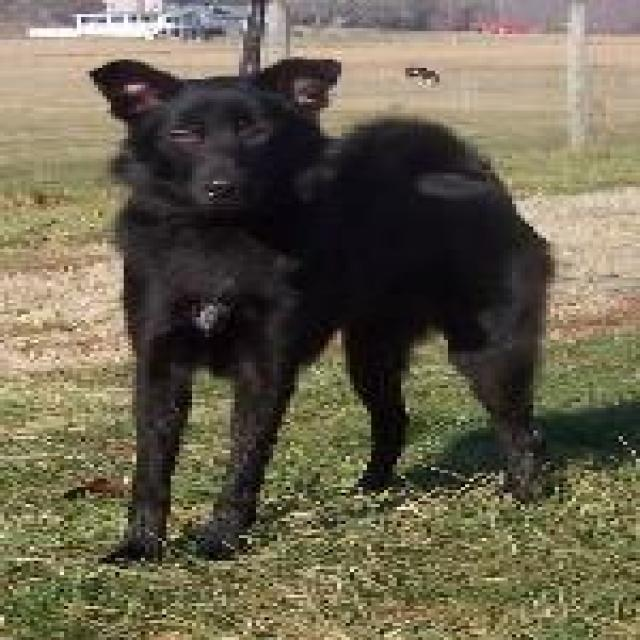dog: (30, 22, 587, 580)
